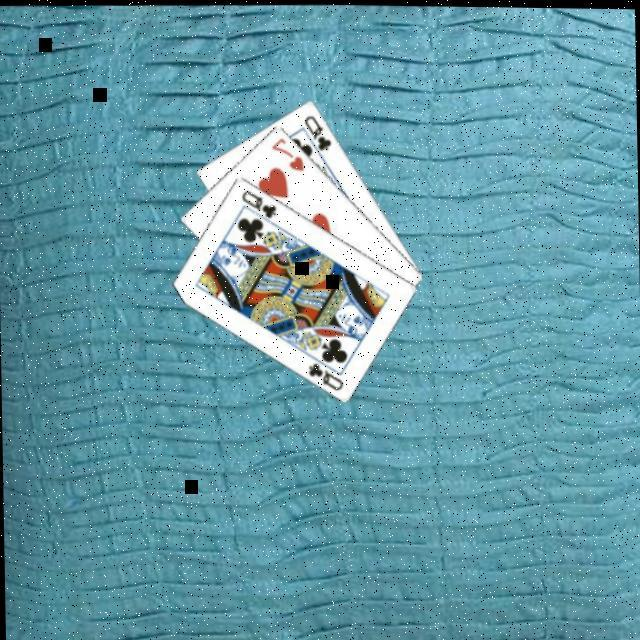7H: (267, 134, 306, 175)
QC: (237, 187, 279, 222), (303, 359, 345, 394), (300, 111, 333, 154)
